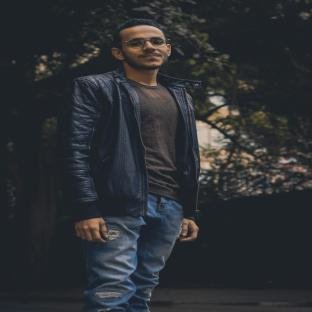Human: (57, 19, 201, 312)
